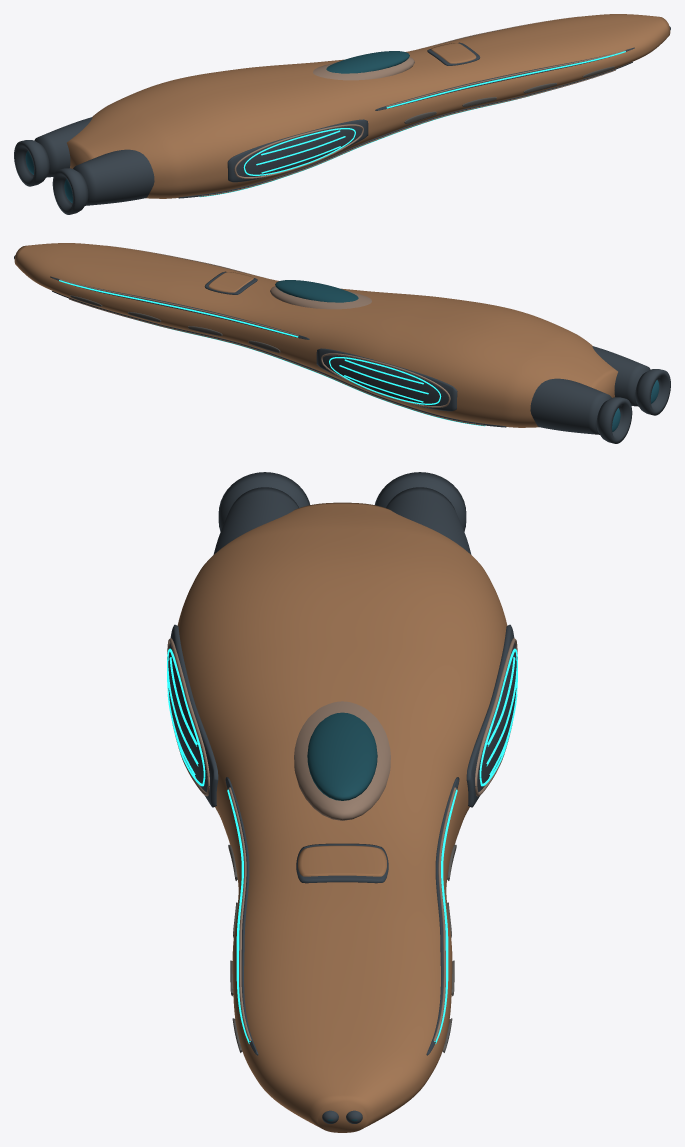
File: fast-attack.glb
3 renders of one model, top to bottom at view 1: azimuth 30°, elevation 25°; view 2: azimuth 150°, elevation 25°; view 3: azimuth 270°, elevation 25°, orthographic. The views are drawn at different scales.
Parts seen in each view (by area): view 1: Continuous pressure hull, Cheek circuitry / contoured housing, Aft propulsion / integrated nacelle, Aft propulsion / integrated nacelle.001, Main propulsion nozzle 01, Canopy / armored glazing, Main propulsion nozzle 02, Canopy / low armored fairing, Lower data conduit / seated channel, Upper data conduit / seated channel, Cheek circuitry / bronze bezel, Lower data conduit / bronze lip (+4 smaller); view 2: Continuous pressure hull, Cheek circuitry / contoured housing.001, Aft propulsion / integrated nacelle.001, Aft propulsion / integrated nacelle, Main propulsion nozzle 02, Canopy / armored glazing, Main propulsion nozzle 01, Canopy / low armored fairing, Lower data conduit / seated channel.001, Upper data conduit / seated channel.001, Cheek circuitry / bronze bezel.001, Lower data conduit / bronze lip.001 (+4 smaller); view 3: Continuous pressure hull, Canopy / armored glazing, Canopy / low armored fairing, Cheek circuitry / contoured housing, Cheek circuitry / contoured housing.001, Dorsal service access / shutter, Aft propulsion / integrated nacelle.001, Aft propulsion / integrated nacelle, Main propulsion nozzle 01, Main propulsion nozzle 02, Dorsal service access / seal.
Boxes of the visible parts, left/top/right/bottom form: Continuous pressure hull: left=67, top=14, right=670, bottom=198; Cheek circuitry / contoured housing: left=227, top=119, right=368, bottom=182; Aft propulsion / integrated nacelle: left=73, top=149, right=154, bottom=205; Aft propulsion / integrated nacelle.001: left=34, top=117, right=92, bottom=177; Main propulsion nozzle 01: left=52, top=168, right=88, bottom=214; Canopy / armored glazing: left=326, top=51, right=409, bottom=73; Main propulsion nozzle 02: left=14, top=140, right=49, bottom=186; Canopy / low armored fairing: left=313, top=57, right=414, bottom=80; Lower data conduit / seated channel: left=178, top=62, right=632, bottom=198; Upper data conduit / seated channel: left=375, top=47, right=634, bottom=110; Cheek circuitry / bronze bezel: left=234, top=124, right=363, bottom=178; Lower data conduit / bronze lip: left=200, top=69, right=615, bottom=196; Continuous pressure hull: left=14, top=243, right=617, bottom=427; Cheek circuitry / contoured housing.001: left=316, top=348, right=457, bottom=411; Aft propulsion / integrated nacelle.001: left=530, top=378, right=611, bottom=434; Aft propulsion / integrated nacelle: left=592, top=346, right=650, bottom=406; Main propulsion nozzle 02: left=596, top=397, right=632, bottom=443; Canopy / armored glazing: left=275, top=280, right=358, bottom=302; Main propulsion nozzle 01: left=635, top=369, right=670, bottom=415; Canopy / low armored fairing: left=270, top=286, right=371, bottom=309; Lower data conduit / seated channel.001: left=52, top=291, right=506, bottom=427; Upper data conduit / seated channel.001: left=50, top=276, right=309, bottom=339; Cheek circuitry / bronze bezel.001: left=321, top=353, right=450, bottom=407; Lower data conduit / bronze lip.001: left=69, top=298, right=484, bottom=425; Continuous pressure hull: left=177, top=502, right=507, bottom=1132; Canopy / armored glazing: left=307, top=712, right=377, bottom=800; Canopy / low armored fairing: left=294, top=701, right=390, bottom=820; Cheek circuitry / contoured housing: left=168, top=624, right=218, bottom=807; Cheek circuitry / contoured housing.001: left=466, top=624, right=516, bottom=807; Dorsal service access / shutter: left=298, top=845, right=386, bottom=876; Aft propulsion / integrated nacelle.001: left=386, top=487, right=471, bottom=554; Aft propulsion / integrated nacelle: left=213, top=487, right=298, bottom=554; Main propulsion nozzle 01: left=218, top=472, right=309, bottom=531; Main propulsion nozzle 02: left=375, top=472, right=466, bottom=531; Dorsal service access / seal: left=296, top=843, right=388, bottom=883.
Bounding box in the file's own units: 180 × 22.51 × 43.92.
